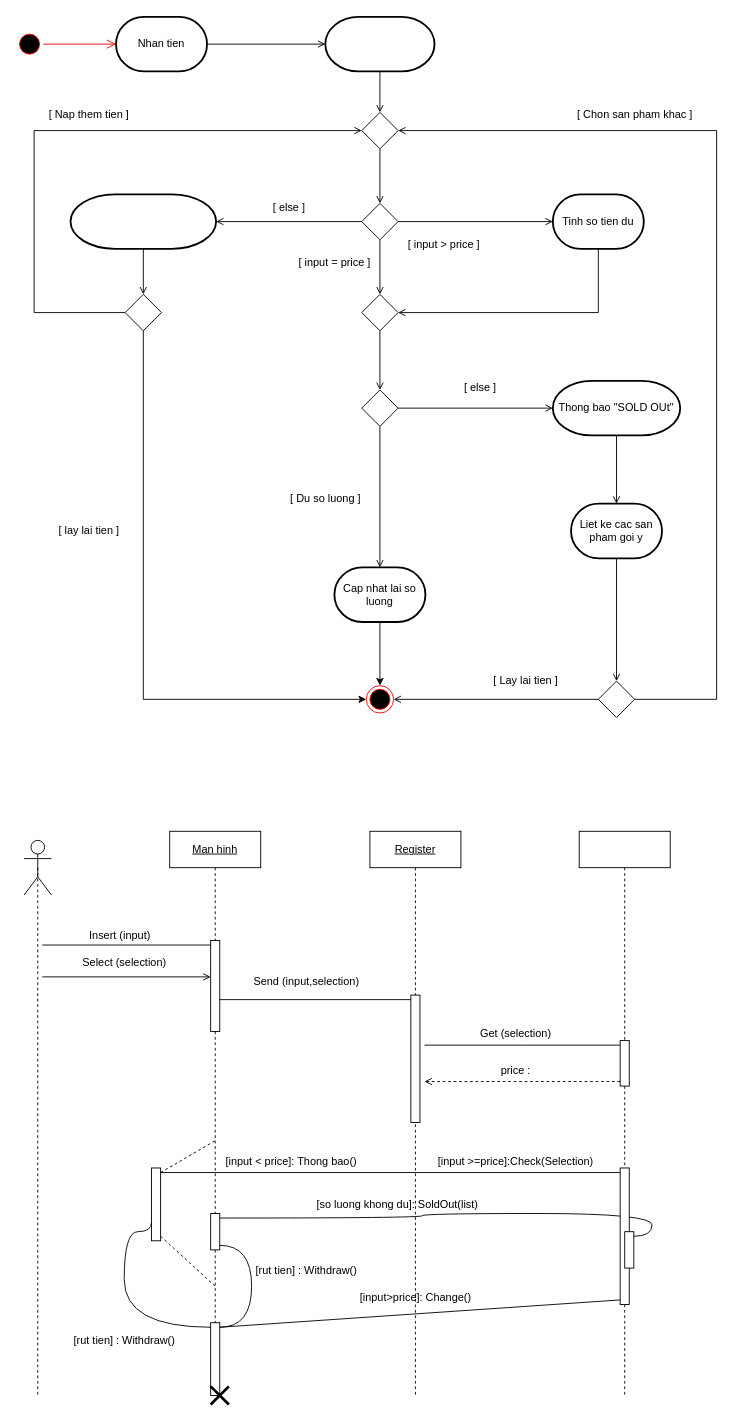
Some shapes in this 740 by 1421 pixel diagram are drawn without their labels. Each missing label, with the centre of its shape:
"Database" belongs at point 624,1112.
"Nhan tong tin san pham" belongs at point 379,43.
"Object" belongs at point 37,867.
"Thong bao khong du tien" belongs at point 143,221.
